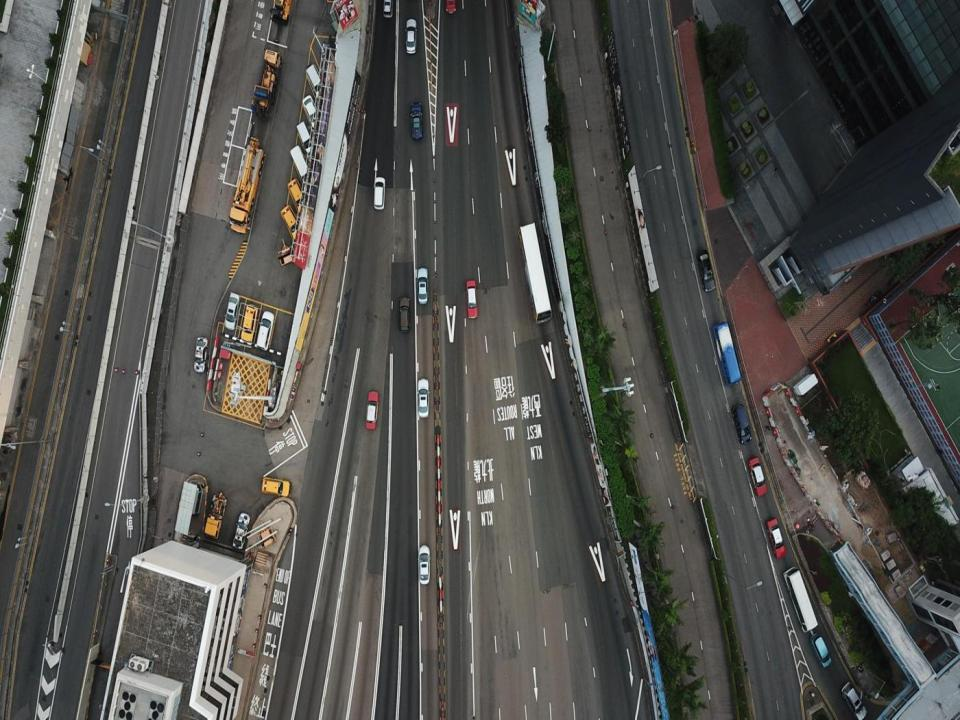bus: (518, 221, 552, 324), (783, 567, 818, 632), (712, 322, 740, 386)
car: (766, 517, 786, 558), (748, 456, 767, 497), (697, 250, 715, 292), (232, 513, 250, 549), (224, 293, 241, 331), (302, 95, 320, 129), (418, 544, 431, 584), (416, 378, 429, 418), (365, 391, 378, 430), (194, 336, 208, 372), (404, 18, 417, 54), (410, 101, 422, 139), (466, 280, 477, 318)
truck: (228, 136, 264, 233), (251, 48, 282, 120), (204, 492, 227, 538)
van: (290, 144, 313, 188), (841, 682, 867, 719), (287, 178, 309, 218), (281, 204, 303, 241), (305, 63, 326, 101), (809, 632, 831, 668), (732, 404, 751, 444), (256, 311, 274, 351), (240, 304, 258, 342), (296, 120, 316, 154), (261, 477, 291, 497), (416, 267, 429, 303), (399, 296, 411, 331), (373, 177, 385, 209), (382, 0, 393, 18)
